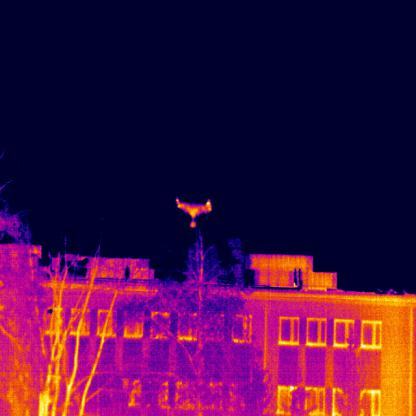drone: (174, 197, 210, 226)
